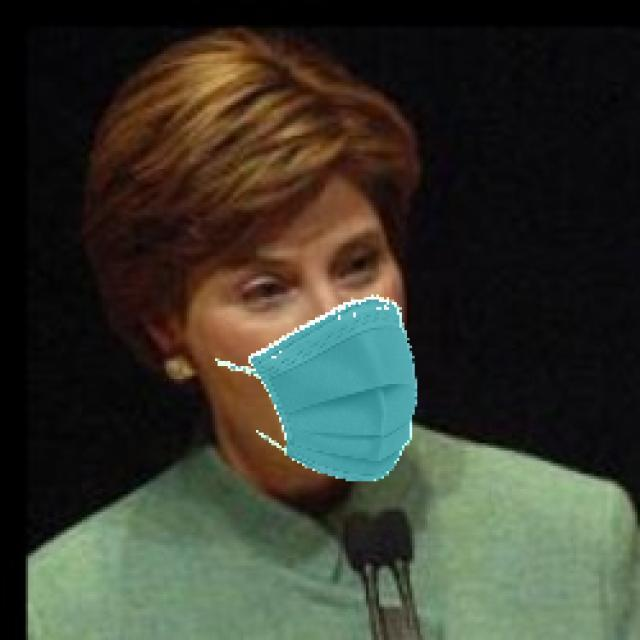surgical: (176, 175, 410, 487)
